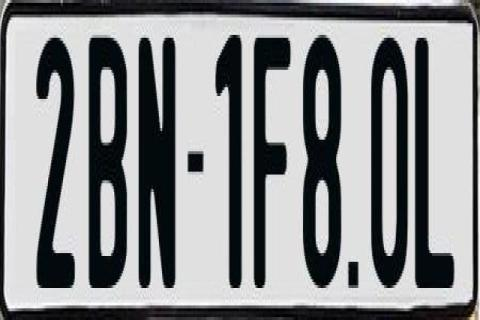0: (35, 29, 79, 279), (300, 35, 339, 305), (368, 32, 406, 294), (214, 35, 240, 305)
B: (88, 35, 132, 294)
F: (252, 32, 290, 288)
L: (416, 38, 456, 302)
N: (136, 38, 178, 291)
